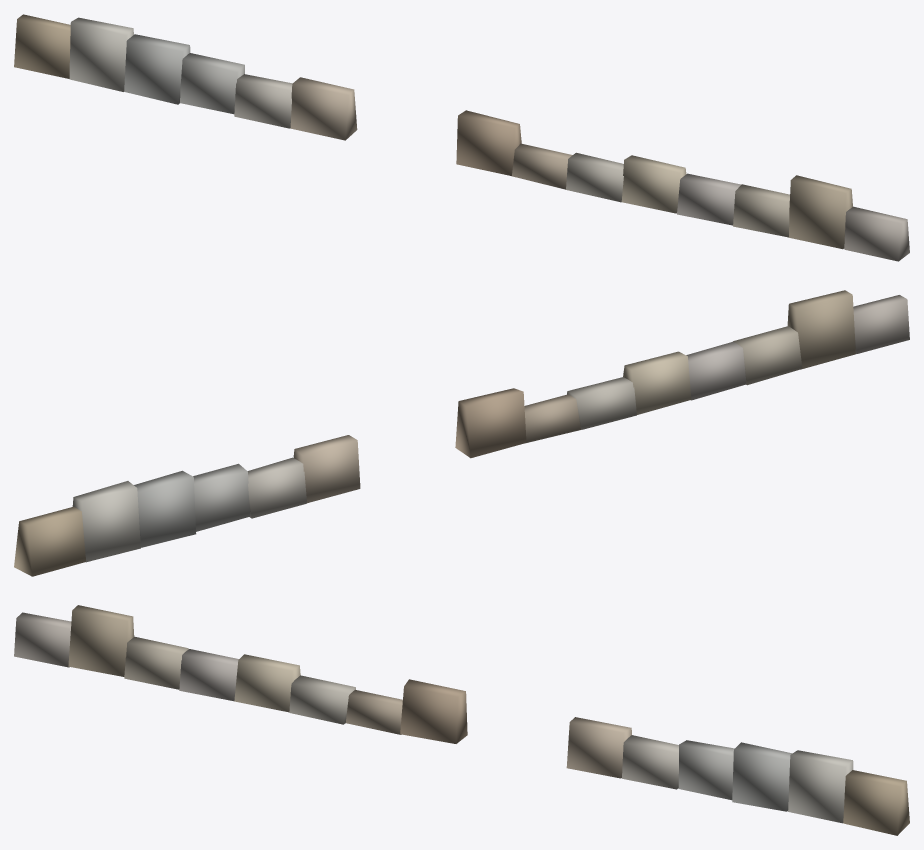
The model's file is farm_11_0_far.glb.
3 renders of one model, top to bottom at view 1: azimuth 90°, elevation 25°; view 2: azimuth 150°, elevation 25°; view 3: azimuth 270°, elevation 25°, orthographic. The views are drawn at different scales.
Visible parts, largest first — view 1: geometry_0; view 2: geometry_0; view 3: geometry_0.
Boxes of the visible parts, bbox=[...] form: geometry_0: bbox=[14, 14, 909, 261]; geometry_0: bbox=[14, 290, 909, 576]; geometry_0: bbox=[14, 605, 909, 835].
Bounding box in the file's own units: 11.58 × 1.75 × 22.27.
